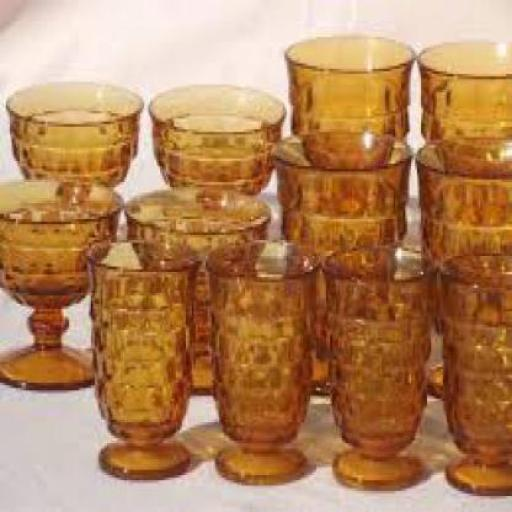glass: (269, 130, 412, 396), (122, 184, 269, 394), (82, 238, 202, 478), (204, 237, 318, 483), (320, 245, 427, 491), (0, 174, 123, 388), (411, 134, 510, 396), (436, 254, 510, 494), (146, 84, 285, 195), (4, 76, 140, 187), (282, 34, 413, 146), (416, 37, 510, 159)
